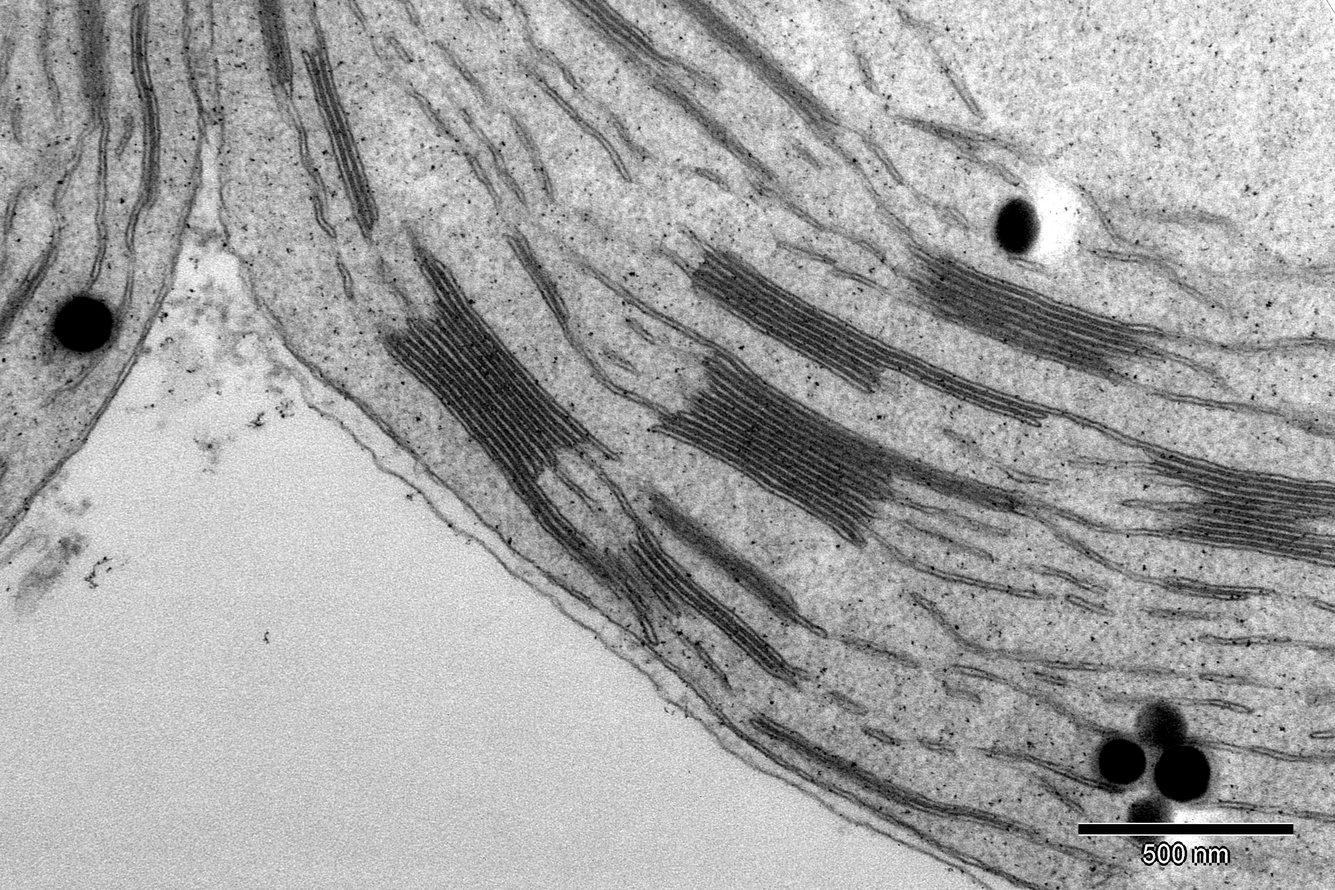granum: (645, 340, 1020, 550), (377, 255, 602, 571), (689, 239, 1057, 432), (584, 521, 794, 682), (912, 244, 1147, 385), (674, 0, 849, 148), (1144, 439, 1335, 573), (644, 486, 801, 628), (297, 40, 383, 245), (557, 0, 682, 91), (71, 0, 113, 122), (254, 0, 296, 90)
